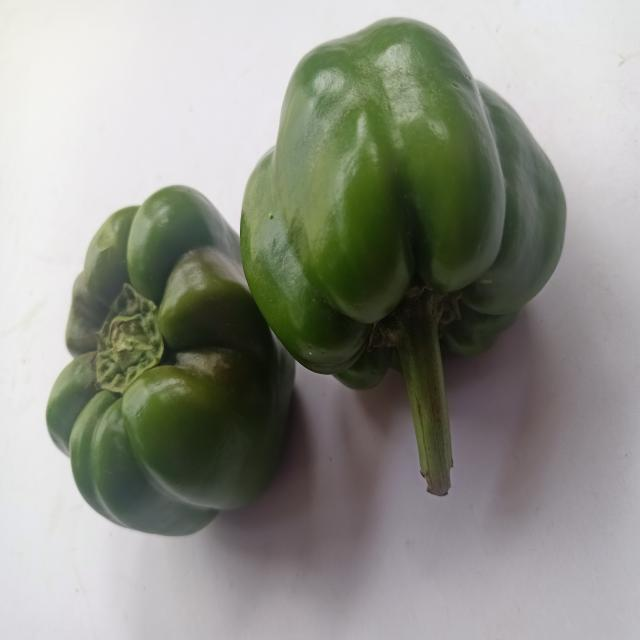Capsicum: (233, 10, 604, 517), (37, 166, 304, 550)
